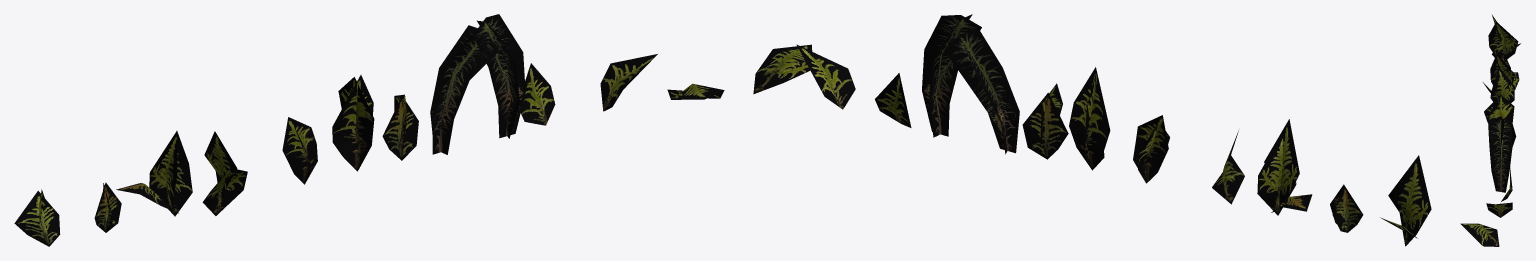
The model's file is moss-01-lod1.glb.
3 renders of one model, left to right at view 1: azimuth 30°, elevation 25°; view 2: azimuth 150°, elevation 25°; view 3: azimuth 270°, elevation 25°, orthographic. The views are drawn at different scales.
Visible parts, largest first — view 1: moss_01_c_LOD0; view 2: moss_01_c_LOD0; view 3: moss_01_c_LOD0.
Boxes of the visible parts, left/top/right/bottom form: moss_01_c_LOD0: left=14, top=14, right=724, bottom=246; moss_01_c_LOD0: left=753, top=14, right=1431, bottom=246; moss_01_c_LOD0: left=1460, top=15, right=1520, bottom=246.
Size of the model in its own units: 0.2153 by 0.0404 by 0.0294.
1 material, 1 textured.
